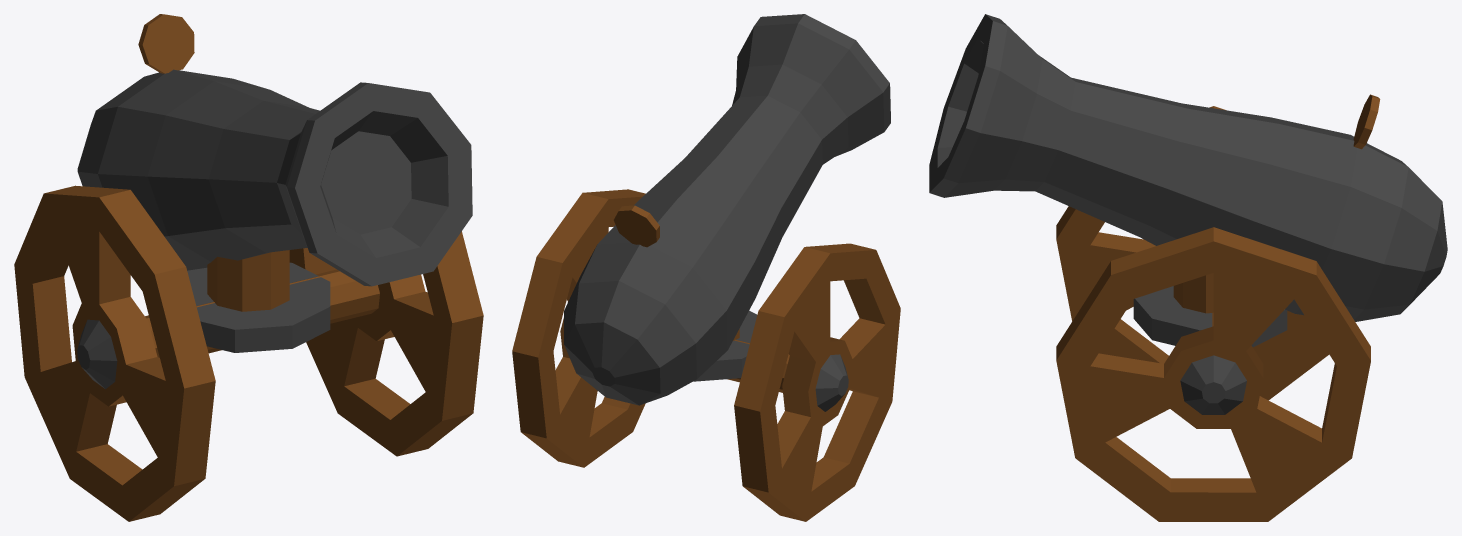
Rendered from Canhao_Nv1.glb.
The picture shows the model from 3 angles, left to right: view 1: azimuth 30°, elevation 25°; view 2: azimuth 150°, elevation 25°; view 3: azimuth 270°, elevation 25°; orthographic projection. The views are drawn at different scales.
Parts seen in each view (by area): view 1: Turret.003, NIVEL1; view 2: Turret.003, NIVEL1; view 3: Turret.003, NIVEL1.
Boxes of the visible parts, x1=… form: Turret.003: x1=77, y1=14, x2=472, y2=357; NIVEL1: x1=14, y1=185, x2=483, y2=521; Turret.003: x1=564, y1=14, x2=890, y2=405; NIVEL1: x1=512, y1=189, x2=900, y2=521; Turret.003: x1=929, y1=14, x2=1447, y2=347; NIVEL1: x1=1056, y1=106, x2=1370, y2=521.
Bounding box in the file's own units: 0.7746 × 1.05 × 1.14.
